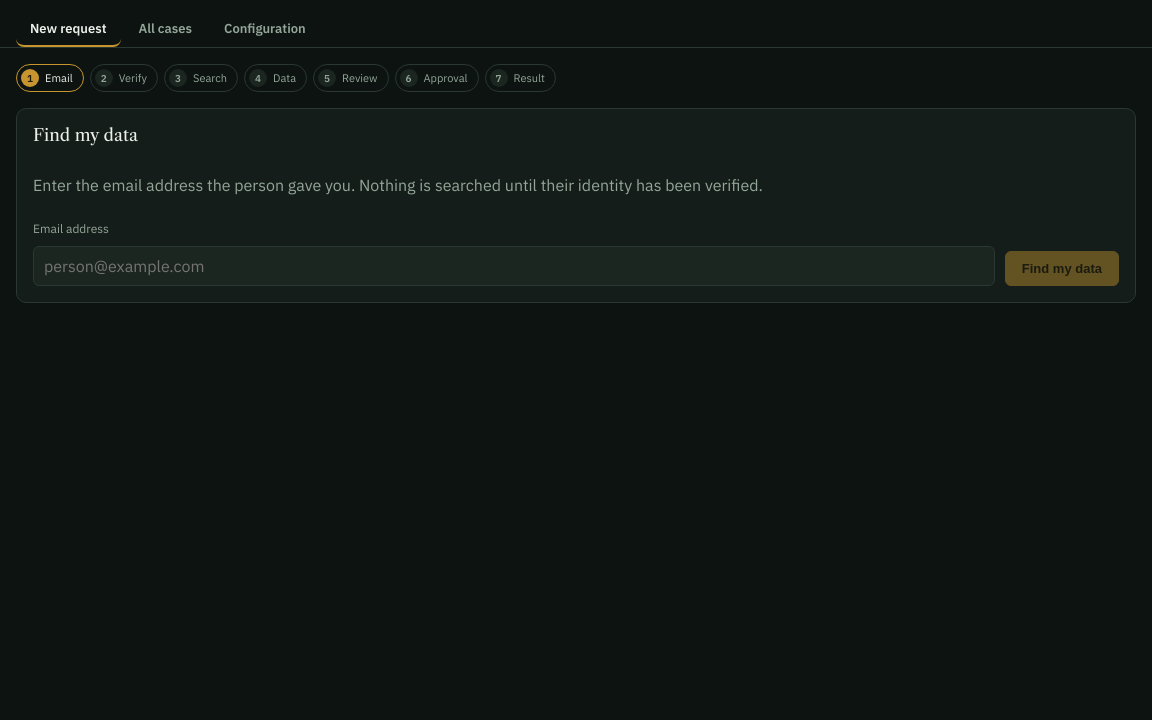
Test case: DsrConsole: tab wiring › shows admin edit controls in Configuration when the signed-in profile's role is admin
Click the tab "Configuration" at coordinates (265, 30), box [210,12,320,47]
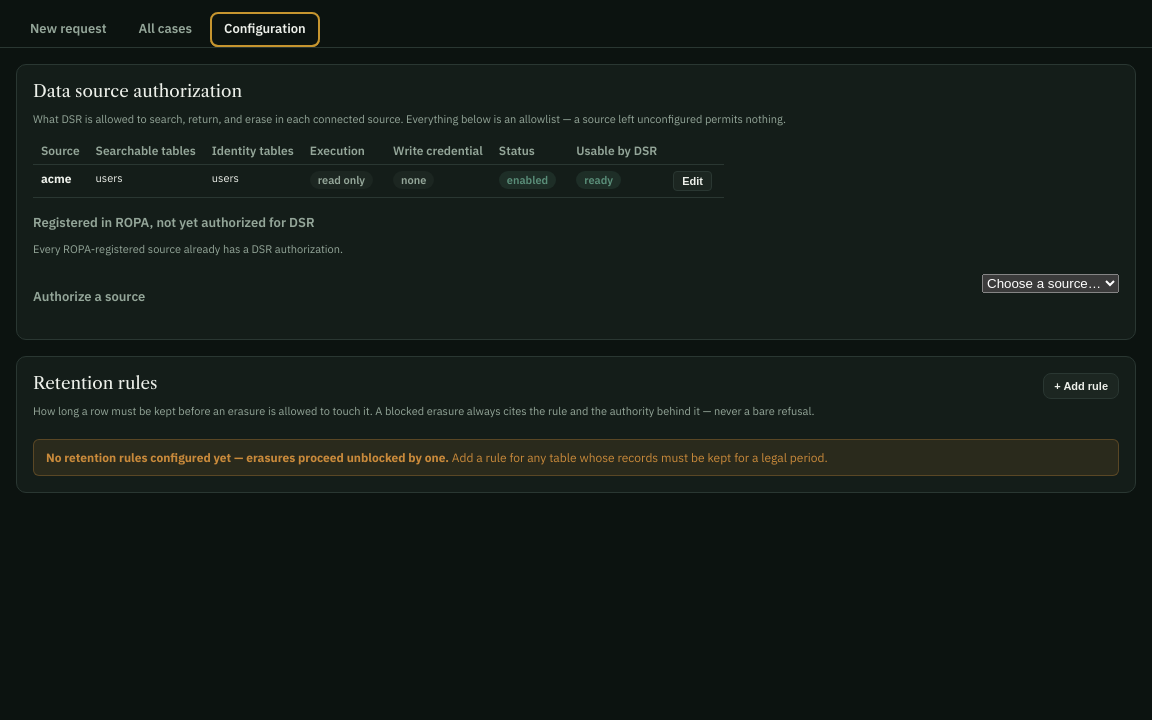
Now the cell "acme" is shown, box [33,164,88,198]
Now the button "Edit" is shown, box [673,171,712,191]
